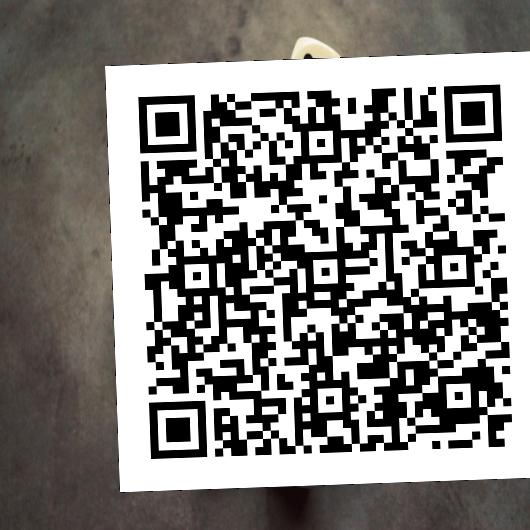qr_code: (105, 60, 529, 484)
